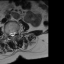CCS_stenosis: (11, 30, 13, 38)
LFS_normal: (15, 29, 17, 35)
LLS_normal: (13, 30, 15, 37)
RFS_normal: (7, 30, 9, 37)
RLS_normal: (9, 31, 11, 37)
